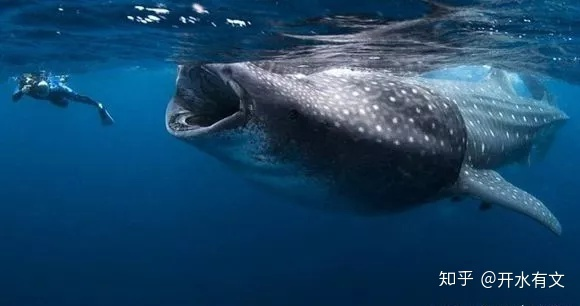fish: (146, 33, 575, 239)
